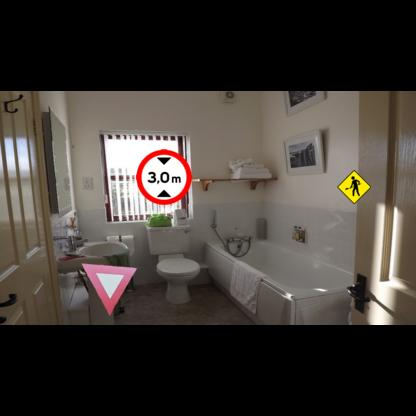A-24: (337, 170, 371, 204)
R-15: (136, 149, 192, 205)
R-2: (81, 263, 137, 316)
